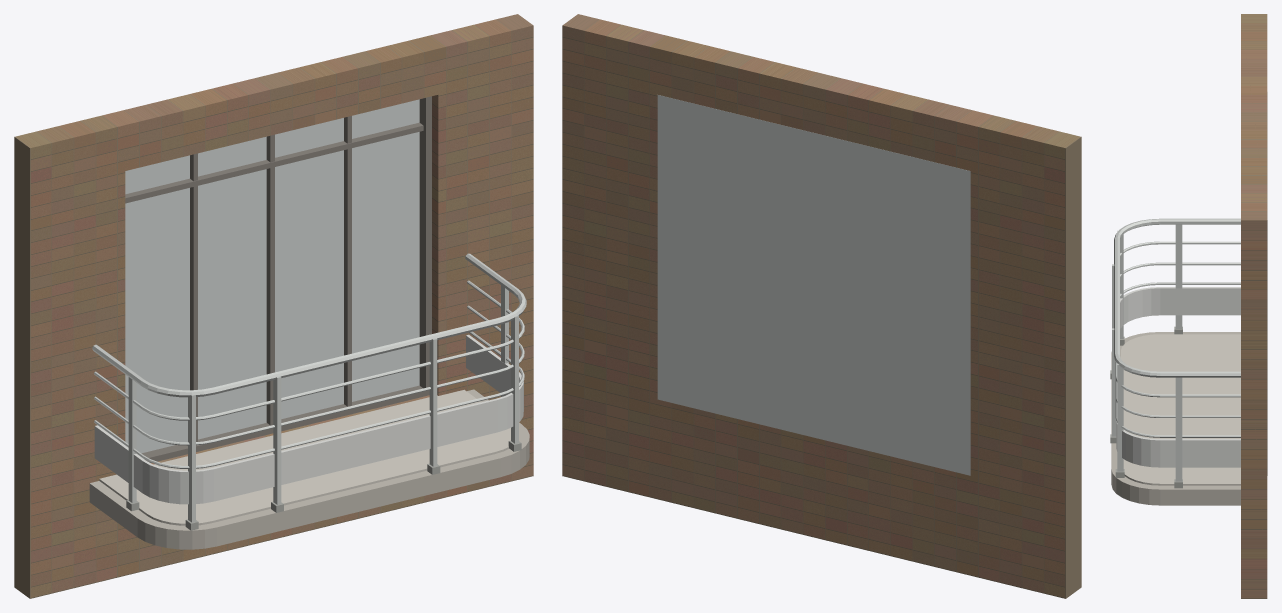
The model's file is donglu-rounded-metal-balcony-far.glb.
The picture shows the model from 3 angles, left to right: view 1: azimuth 30°, elevation 25°; view 2: azimuth 150°, elevation 25°; view 3: azimuth 270°, elevation 25°; orthographic projection. The views are drawn at different scales.
Parts seen in each view (by area): view 1: 岳阳路265号东庐三层小挑台与弧端金属栏板; view 2: 岳阳路265号东庐三层小挑台与弧端金属栏板; view 3: 岳阳路265号东庐三层小挑台与弧端金属栏板.
Part boxes in pixels (<box>): 岳阳路265号东庐三层小挑台与弧端金属栏板: <box>14,14,533,598</box>; 岳阳路265号东庐三层小挑台与弧端金属栏板: <box>562,14,1081,598</box>; 岳阳路265号东庐三层小挑台与弧端金属栏板: <box>1110,14,1267,598</box>.
Size of the model in its own units: 3.32 by 2.84 by 1.07.
9 materials, 1 textured.
